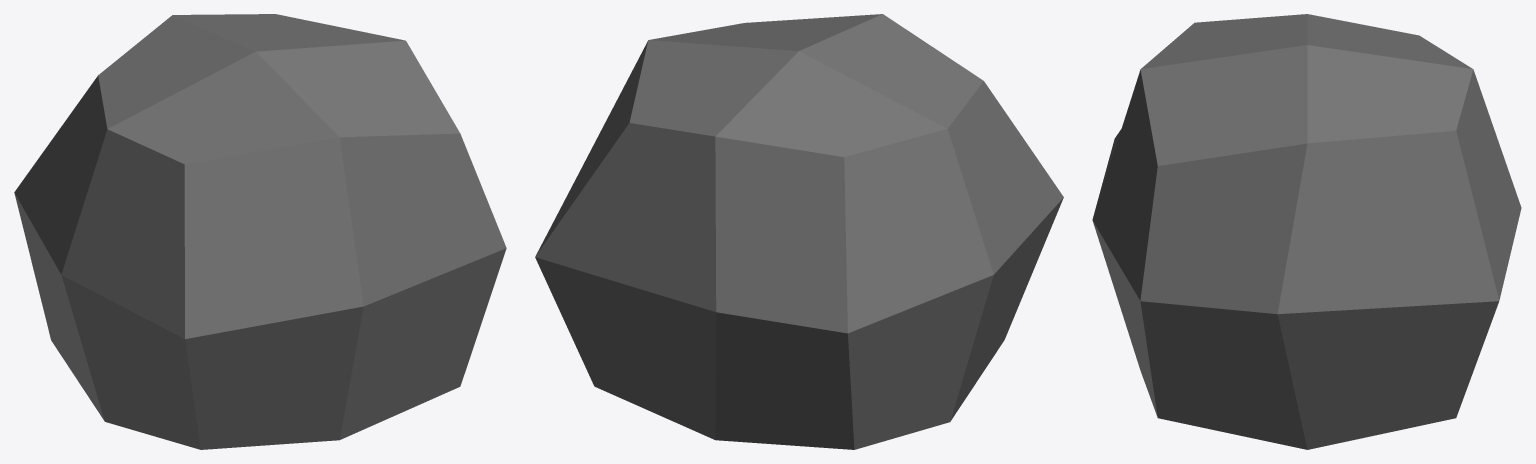
Rendered from Boulder2.fbx.
3 renders of one model, left to right at view 1: azimuth 30°, elevation 25°; view 2: azimuth 150°, elevation 25°; view 3: azimuth 270°, elevation 25°, orthographic.
Visible parts, largest first — view 1: Boulder1; view 2: Boulder1; view 3: Boulder1.
Part boxes in pixels (x1=…): Boulder1: x1=14, y1=14, x2=506, y2=449; Boulder1: x1=535, y1=14, x2=1063, y2=449; Boulder1: x1=1092, y1=14, x2=1521, y2=449.
Bounding box in the file's own units: 184 × 159 × 177.
Materials: 1 (1 with a texture image).
